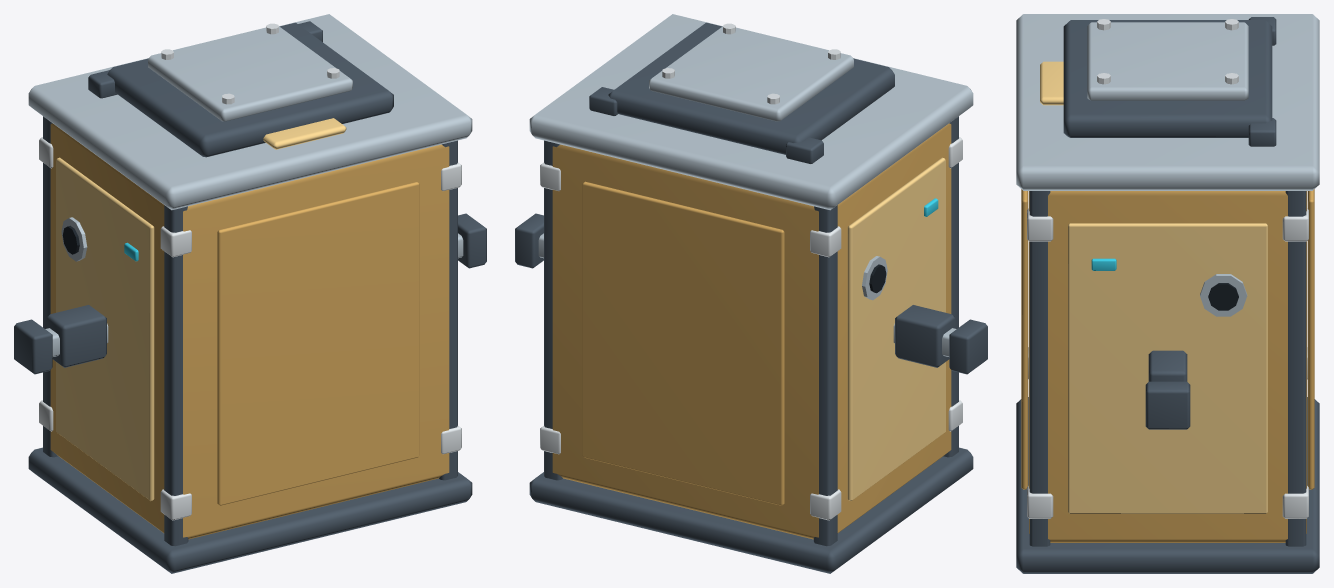
The model's file is GSAT50_platform.glb.
3 renders of one model, left to right at view 1: azimuth 30°, elevation 25°; view 2: azimuth 150°, elevation 25°; view 3: azimuth 270°, elevation 25°, orthographic. The views are drawn at different scales.
Visible parts, largest first — view 1: Front_Rear_Thermal_Panel, Main_Satellite_Bus, Top_Structural_Plate, Side_Thermal_Panel, Bottom_Structural_Plate, Payload_Mounting_Plate, Payload_Deck, Vertical_Structural_Rail, Solar_Mounting_Bracket, Vertical_Structural_Rail_002, Vertical_Structural_Rail_001, Solar_Array_Connector (+5 smaller); view 2: Front_Rear_Thermal_Panel_001, Main_Satellite_Bus, Top_Structural_Plate, Side_Thermal_Panel, Bottom_Structural_Plate, Payload_Deck, Payload_Mounting_Plate, Vertical_Structural_Rail_001, Solar_Mounting_Bracket, Vertical_Structural_Rail_003, Vertical_Structural_Rail, Solar_Array_Connector (+5 smaller); view 3: Side_Thermal_Panel_001, Top_Structural_Plate, Main_Satellite_Bus, Payload_Mounting_Plate, Payload_Deck, Bottom_Structural_Plate, Vertical_Structural_Rail_002, Vertical_Structural_Rail_003, Front_Rear_Thermal_Panel, Front_Rear_Thermal_Panel_001, Solar_Array_Connector_001, Solar_Mounting_Bracket_001 (+8 smaller).
Boxes of the visible parts, <box> form: Front_Rear_Thermal_Panel: <box>217,181,419,505</box>; Main_Satellite_Bus: <box>50,123,449,539</box>; Top_Structural_Plate: <box>28,14,472,210</box>; Side_Thermal_Panel: <box>56,157,154,500</box>; Bottom_Structural_Plate: <box>28,447,472,573</box>; Payload_Mounting_Plate: <box>148,26,352,121</box>; Payload_Deck: <box>107,22,393,157</box>; Vertical_Structural_Rail: <box>164,205,188,546</box>; Solar_Mounting_Bracket: <box>46,305,106,367</box>; Vertical_Structural_Rail_002: <box>439,140,457,480</box>; Vertical_Structural_Rail_001: <box>43,116,58,457</box>; Solar_Array_Connector: <box>14,319,52,374</box>; Front_Rear_Thermal_Panel_001: <box>582,181,784,505</box>; Main_Satellite_Bus: <box>552,123,951,539</box>; Top_Structural_Plate: <box>529,14,973,210</box>; Side_Thermal_Panel: <box>847,157,945,500</box>; Bottom_Structural_Plate: <box>529,447,973,573</box>; Payload_Deck: <box>608,22,894,154</box>; Payload_Mounting_Plate: <box>649,26,853,121</box>; Vertical_Structural_Rail_001: <box>813,205,837,546</box>; Solar_Mounting_Bracket: <box>895,305,955,367</box>; Vertical_Structural_Rail_003: <box>544,140,562,480</box>; Vertical_Structural_Rail: <box>943,116,958,457</box>; Solar_Array_Connector: <box>949,319,987,374</box>; Side_Thermal_Panel_001: <box>1068,223,1267,513</box>; Top_Structural_Plate: <box>1016,14,1319,190</box>; Main_Satellite_Bus: <box>1029,191,1306,542</box>; Payload_Mounting_Plate: <box>1087,22,1248,100</box>; Payload_Deck: <box>1063,20,1272,137</box>; Bottom_Structural_Plate: <box>1016,397,1319,573</box>; Vertical_Structural_Rail_002: <box>1029,191,1050,546</box>; Vertical_Structural_Rail_003: <box>1285,191,1306,546</box>; Front_Rear_Thermal_Panel: <box>1021,189,1028,489</box>; Front_Rear_Thermal_Panel_001: <box>1307,189,1314,489</box>; Solar_Array_Connector_001: <box>1145,381,1190,429</box>; Solar_Mounting_Bracket_001: <box>1148,350,1187,381</box>.
Size of the model in its own units: 1.99 by 1.9 by 1.09.
